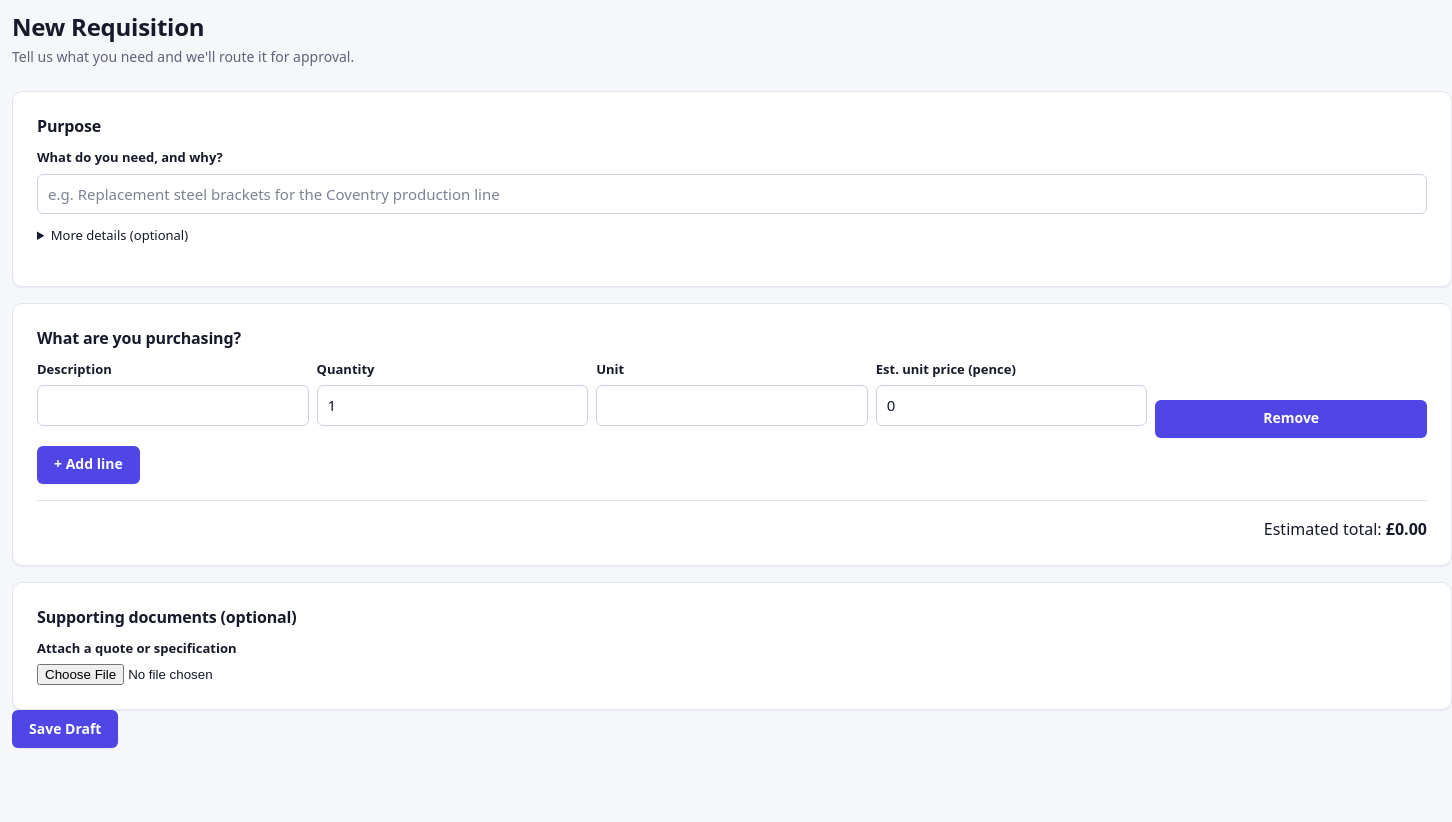
Test case: NewRequisitionPage (item 6 - the most important screen) › SUBMISSION: a valid requisition is created and navigates to its detail page - the backend total is authoritative, never the client-computed one
The image size is (1452, 822).
Replace the text in the field labelled "What do you need, and why?" with "Replacement parts": [732, 194] box [37,174,1427,214]
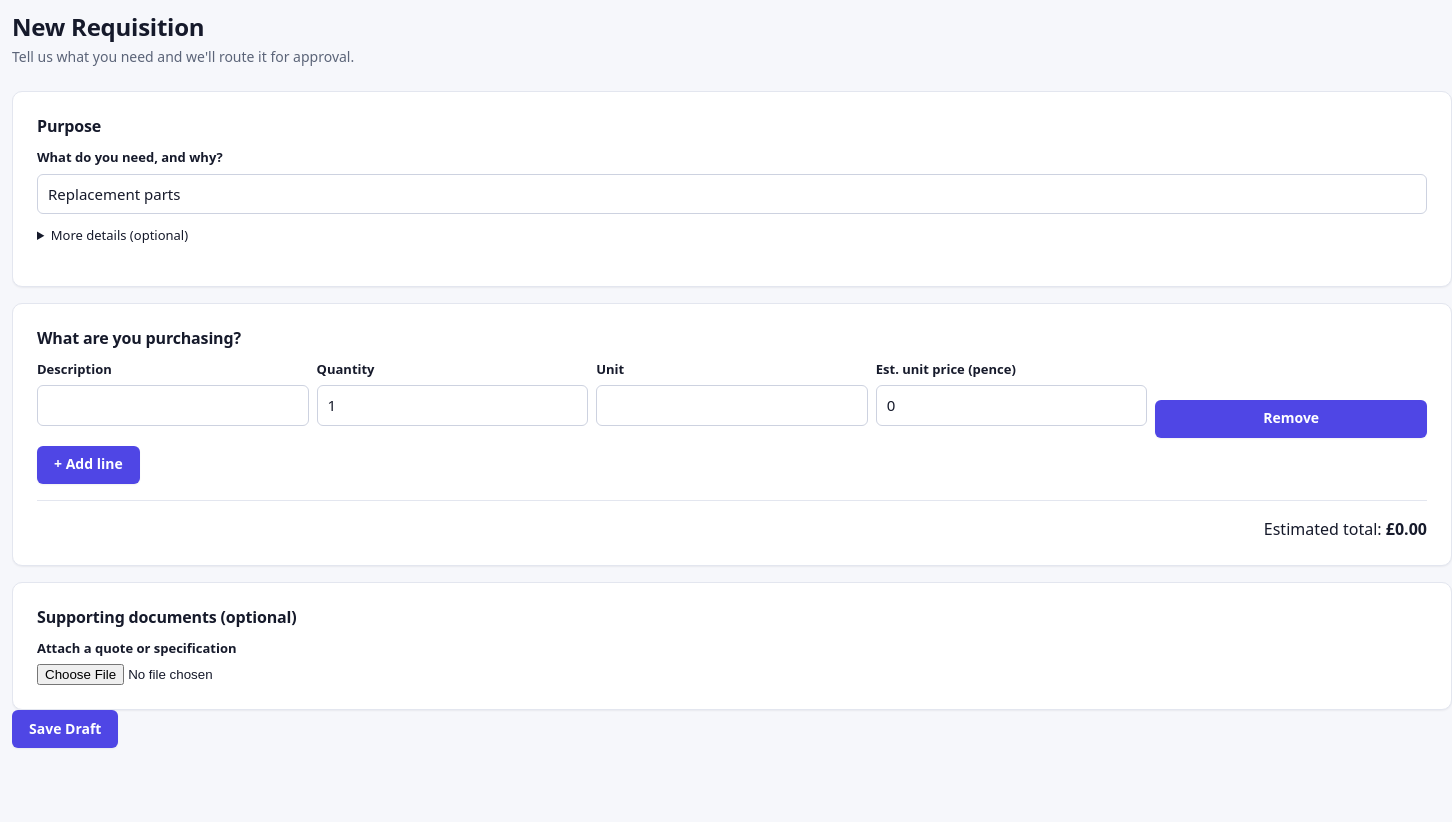
In the field named "Line description": [173, 405] box [37,385,309,426], type "Steel Brackets"
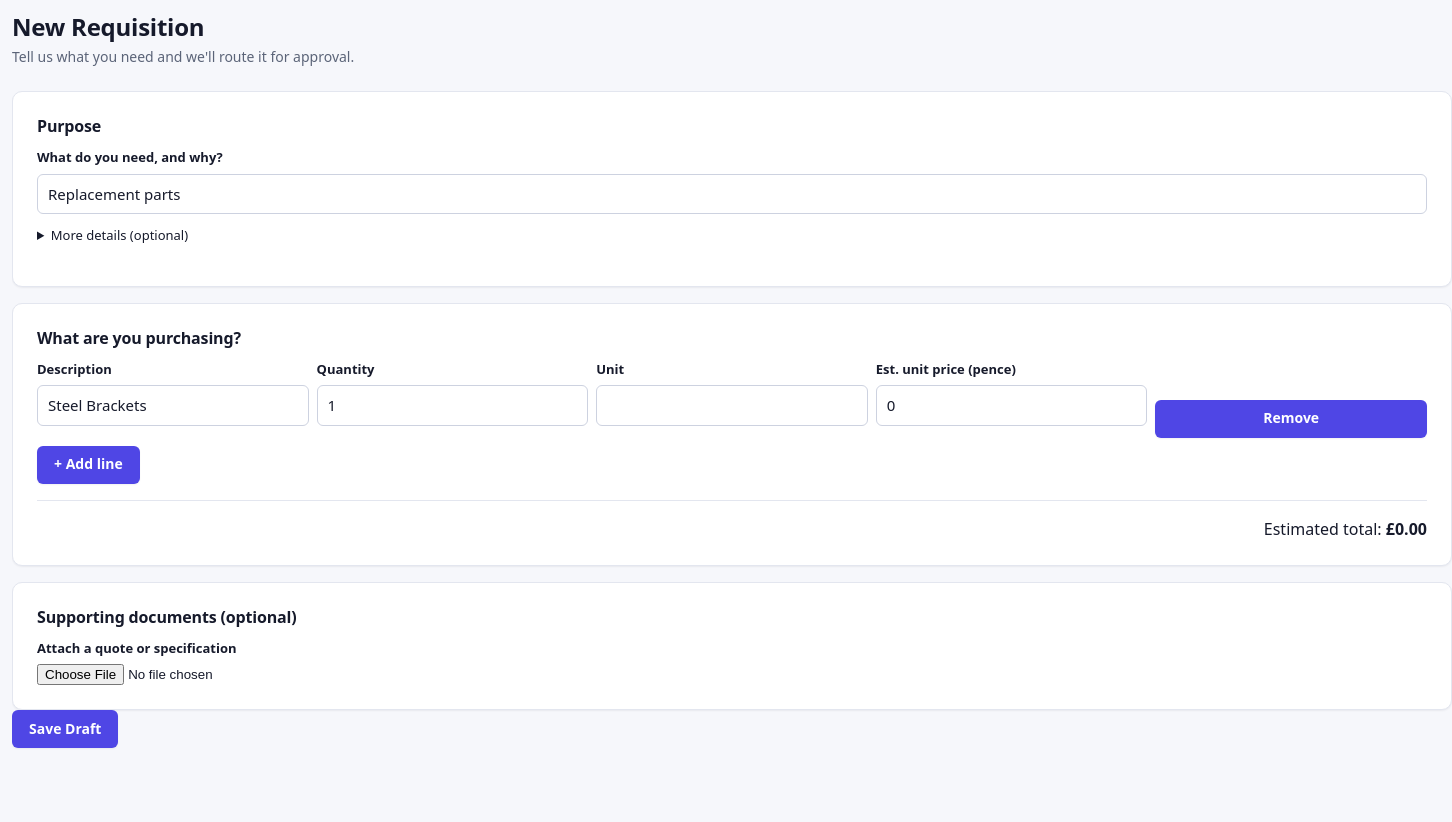
Click the button "Save Draft": [65, 729] box [12,710,118,748]
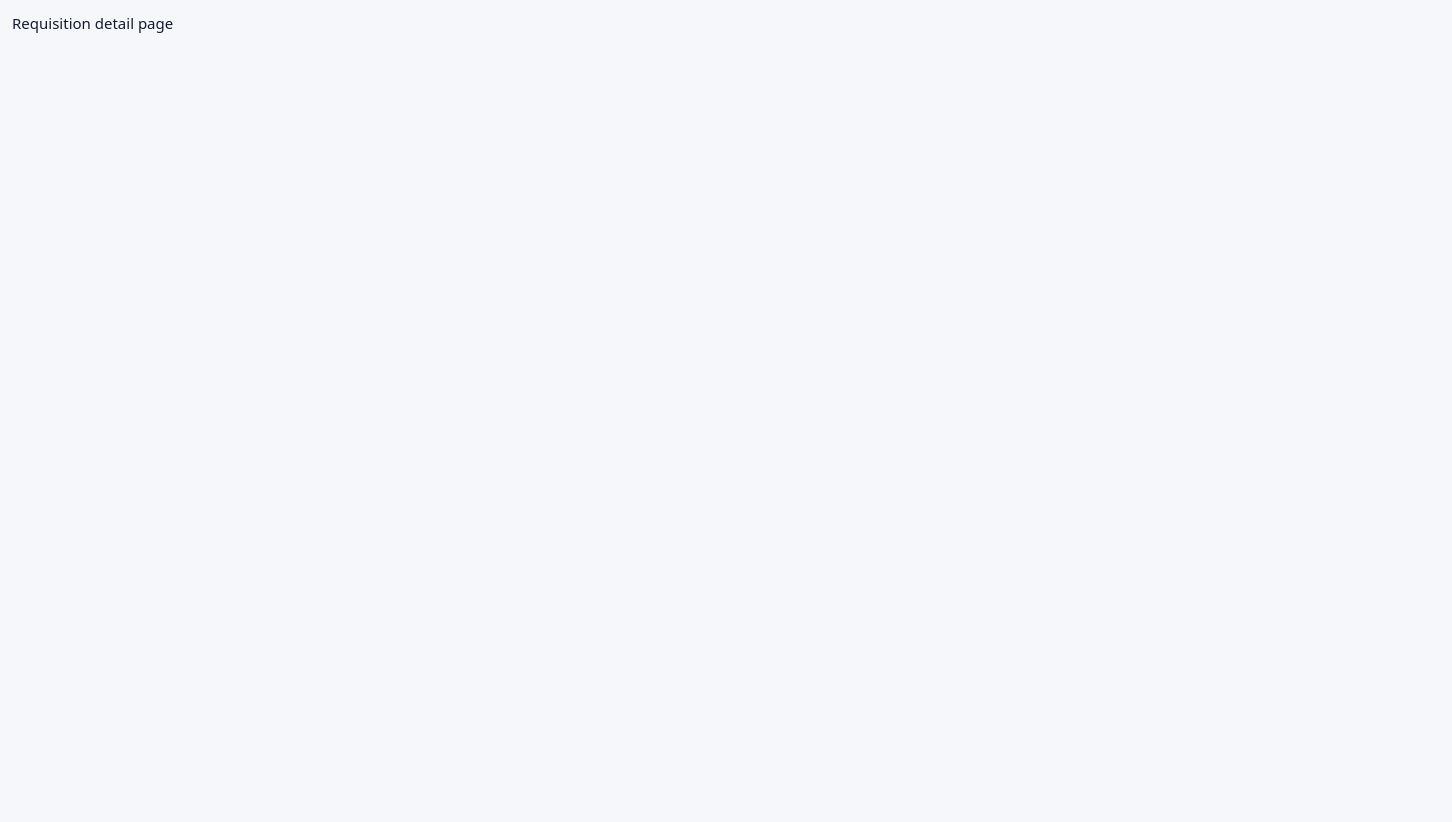
Check: the text "Requisition detail page" is shown, box [12,13,173,33]
